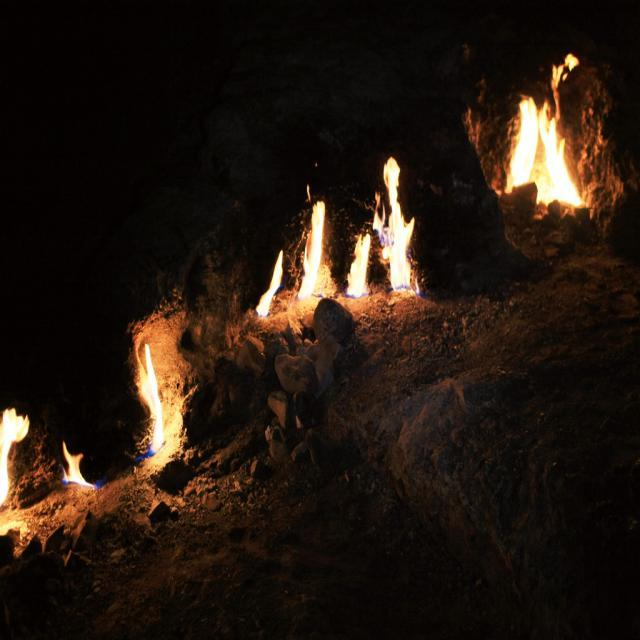Fire: (518, 106, 549, 184), (307, 206, 324, 302), (386, 198, 406, 276), (140, 370, 158, 436), (5, 417, 24, 453)
